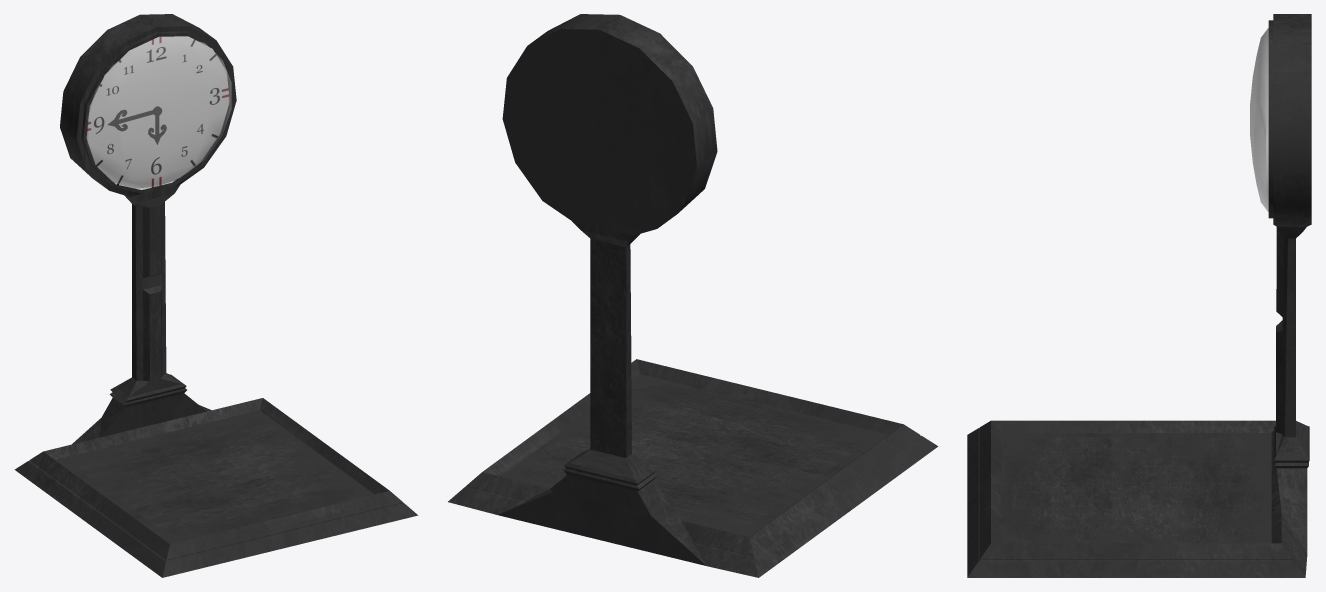
The model's file is Dark_PressurePlate.fbx.
3 views of the same model, side by side, from view 1: azimuth 30°, elevation 25°; view 2: azimuth 150°, elevation 25°; view 3: azimuth 270°, elevation 25° (orthographic). The views are drawn at different scales.
Parts seen in each view (by area): view 1: Dark_PressurePlate; view 2: Dark_PressurePlate; view 3: Dark_PressurePlate.
Boxes of the visible parts, <box> form: Dark_PressurePlate: <box>14,14,418,577</box>; Dark_PressurePlate: <box>448,14,937,577</box>; Dark_PressurePlate: <box>967,14,1311,577</box>.
Bounding box in the file's own units: 177 × 279 × 181.
Materials: 5 (3 with a texture image).
